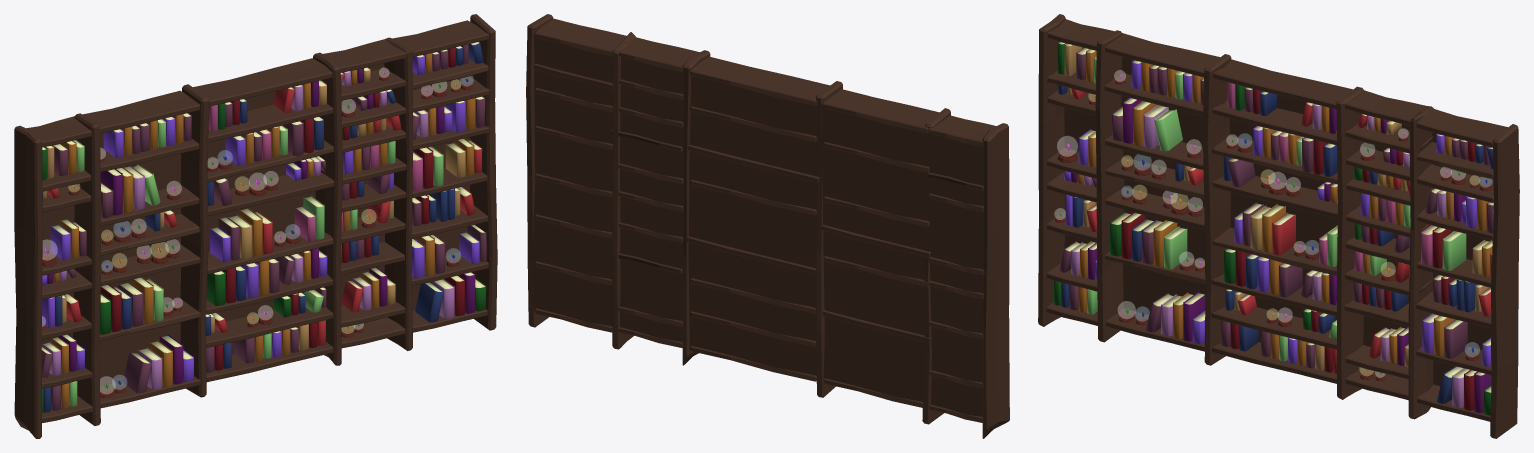
Rendered from bookshelf moving.fbx.
The picture shows the model from 3 angles, left to right: view 1: azimuth 30°, elevation 25°; view 2: azimuth 150°, elevation 25°; view 3: azimuth 330°, elevation 25°; orthographic projection.
Visible parts, largest first — view 1: Plane.004, Plane.005; view 2: Plane.004, Plane.005; view 3: Plane.004, Plane.005.
Boxes of the visible parts, x1,y1,x2,y2 form: Plane.004: [180, 14, 497, 397]; Plane.005: [14, 84, 209, 438]; Plane.004: [526, 14, 842, 397]; Plane.005: [815, 81, 1009, 438]; Plane.004: [1203, 59, 1519, 438]; Plane.005: [1038, 14, 1231, 360].
Size of the model in its own units: 956 by 597 by 84.33.
